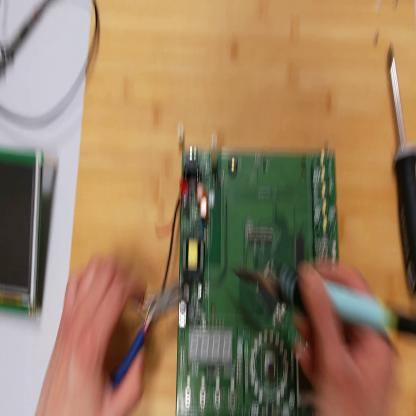hand: (280, 249, 406, 415), (41, 255, 151, 416)
low voltage board: (160, 145, 337, 415)
oscilloscope probe tip: (2, 2, 48, 74)
pliers: (111, 281, 185, 385)
screwdriver-: (391, 45, 416, 297)
welder probe tip: (231, 262, 416, 337)
working area: (68, 3, 416, 414)
